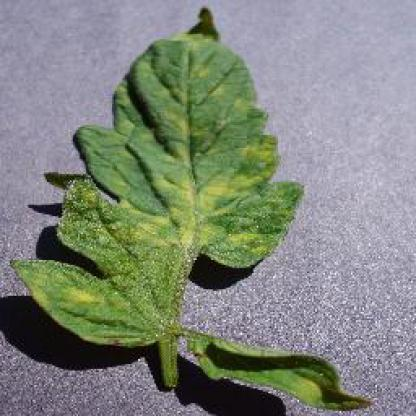bad leaf: (22, 5, 228, 414), (104, 21, 309, 410)
